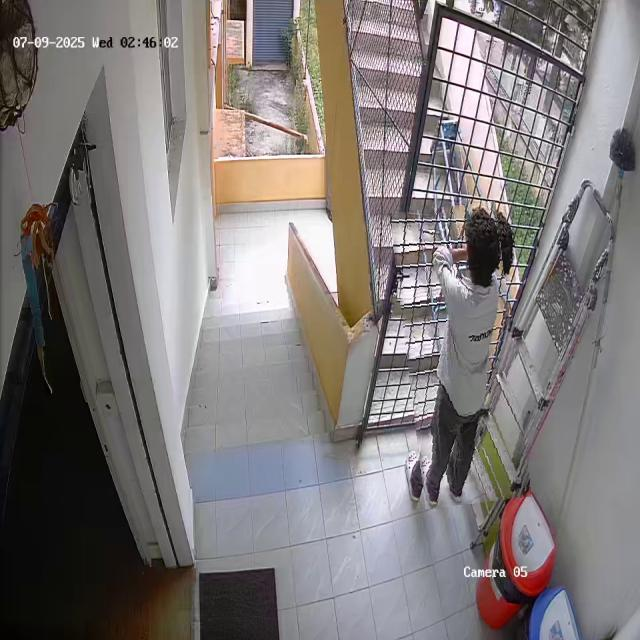person: (398, 204, 523, 506)
